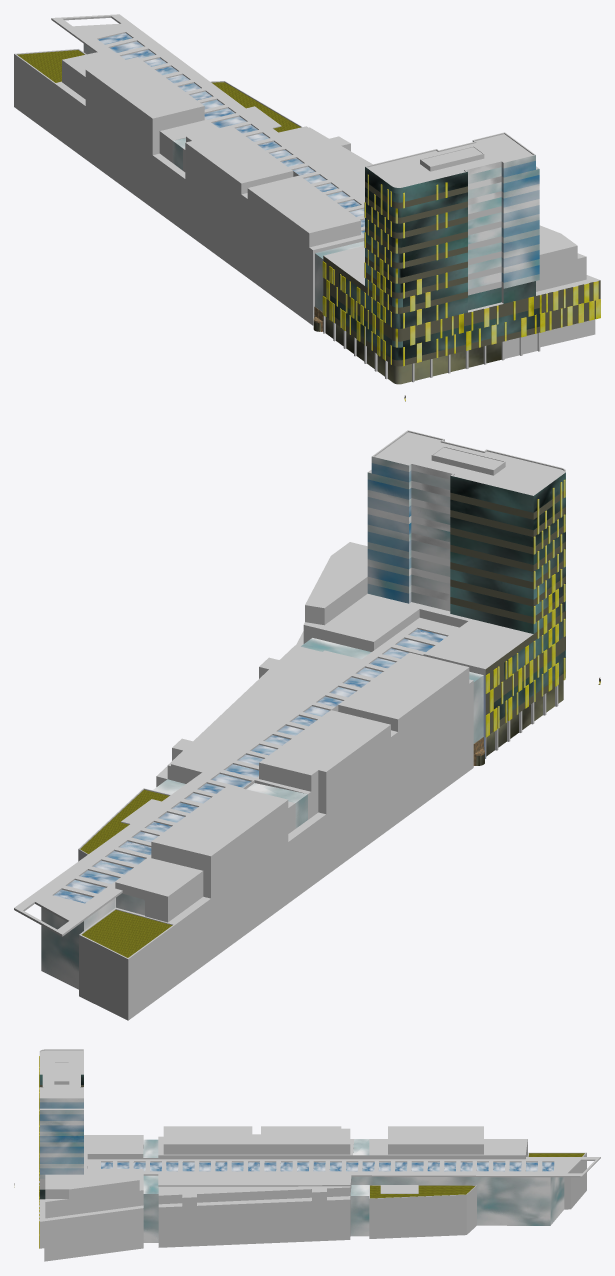
Rendered from AUPARK_model.glb.
The picture shows the model from 3 angles, top to bottom: view 1: azimuth 30°, elevation 25°; view 2: azimuth 150°, elevation 25°; view 3: azimuth 270°, elevation 25°; orthographic projection. The views are drawn at different scales.
Visible parts, largest first — view 1: _(Loose Entity); view 2: _(Loose Entity); view 3: _(Loose Entity).
Boxes of the visible parts, bbox=[...] form: _(Loose Entity): bbox=[14, 14, 600, 384]; _(Loose Entity): bbox=[14, 430, 565, 1020]; _(Loose Entity): bbox=[39, 1049, 600, 1261].
Bounding box in the file's own units: 59.6 × 53.5 × 198.
21 materials, 11 textured.
